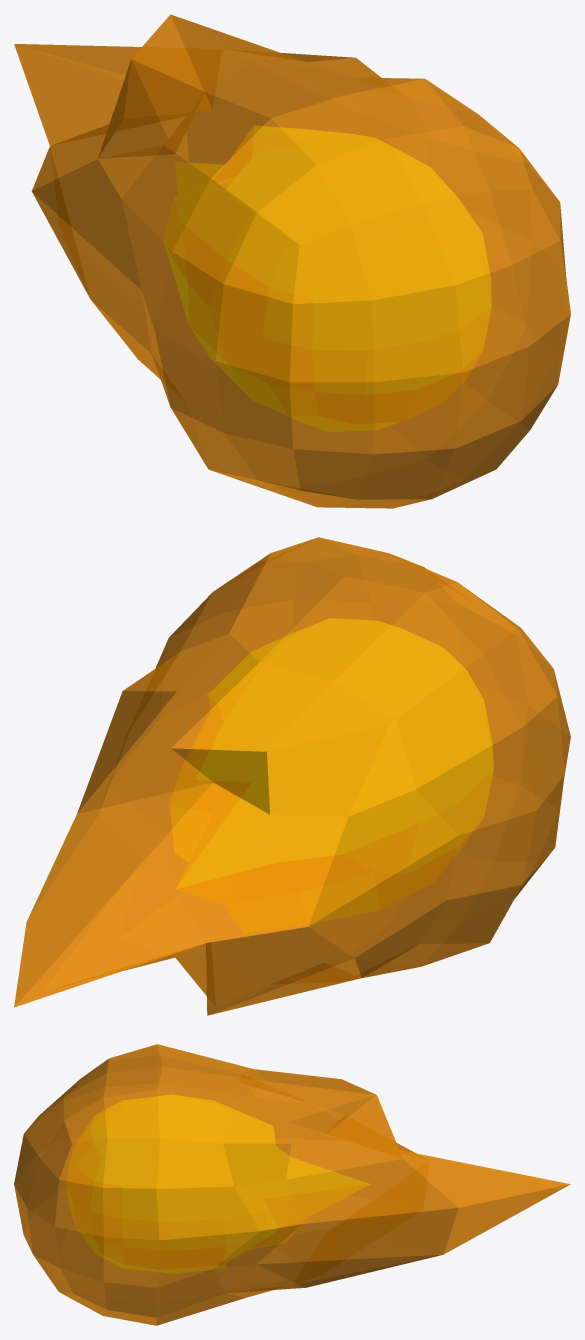
File: fireball.glb
3 views of the same model, one above another, from view 1: azimuth 30°, elevation 25°; view 2: azimuth 150°, elevation 25°; view 3: azimuth 270°, elevation 25° (orthographic). The views are drawn at different scales.
Parts seen in each view (by area): view 1: Cube.001, Cube; view 2: Cube.001, Cube; view 3: Cube.001, Cube.
Boxes of the visible parts, bbox=[...] form: Cube.001: bbox=[14, 14, 570, 508]; Cube: bbox=[163, 125, 491, 431]; Cube.001: bbox=[14, 537, 570, 1015]; Cube: bbox=[170, 618, 493, 933]; Cube.001: bbox=[14, 1044, 570, 1325]; Cube: bbox=[66, 1095, 369, 1273].
Bounding box in the file's own units: 8.13 × 7.93 × 16.8.
